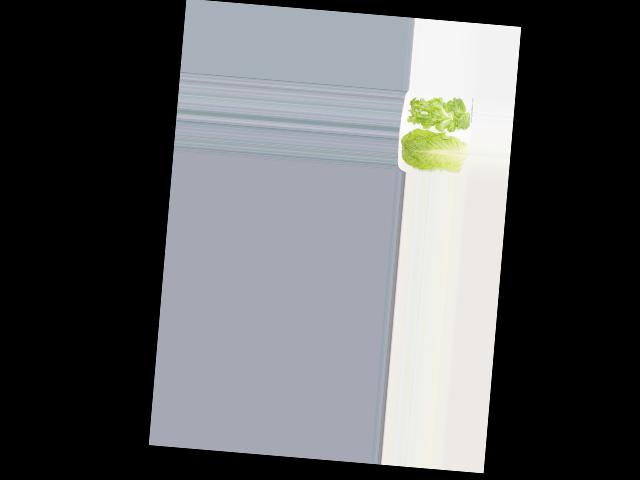lettuce: (406, 90, 470, 132)
